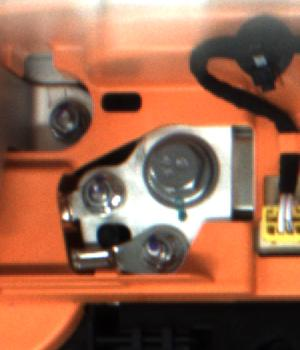nut_b: (142, 136, 221, 215)
